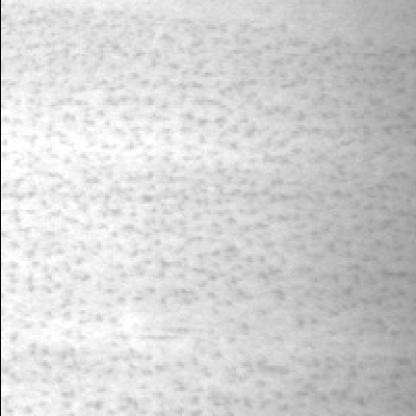pitted_surface: (2, 6, 416, 414)
